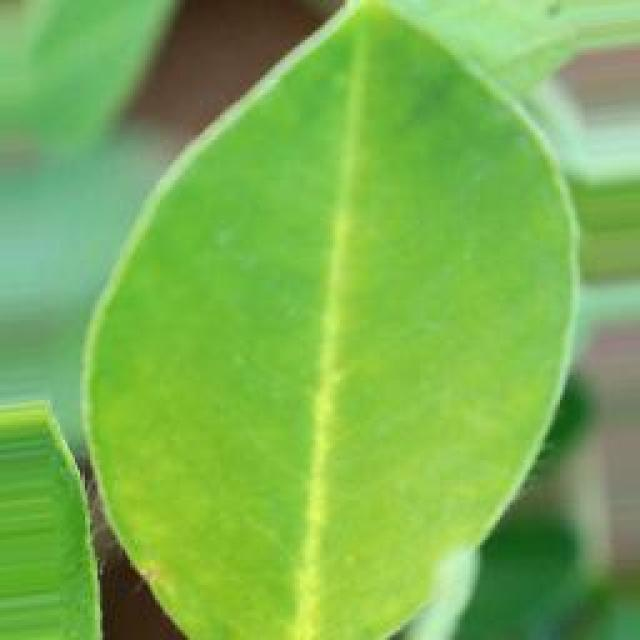Yellow_and_black_sigatoka: (77, 4, 578, 640)
